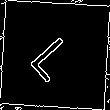L_NE: (25, 26, 85, 84)
